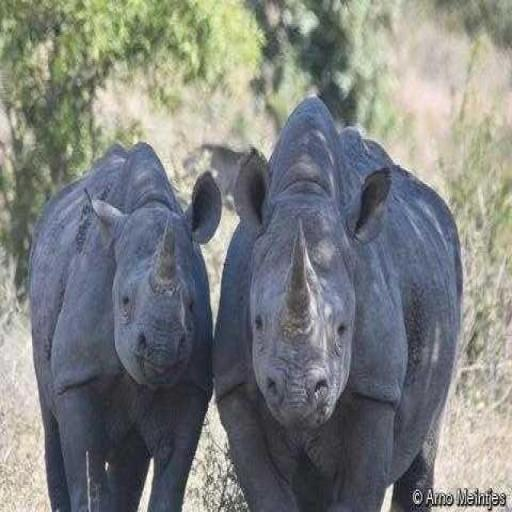Rhino: (211, 92, 463, 510), (25, 140, 222, 510)
